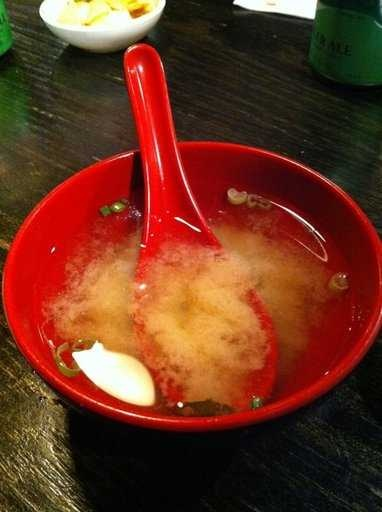soup: (41, 196, 320, 385)
